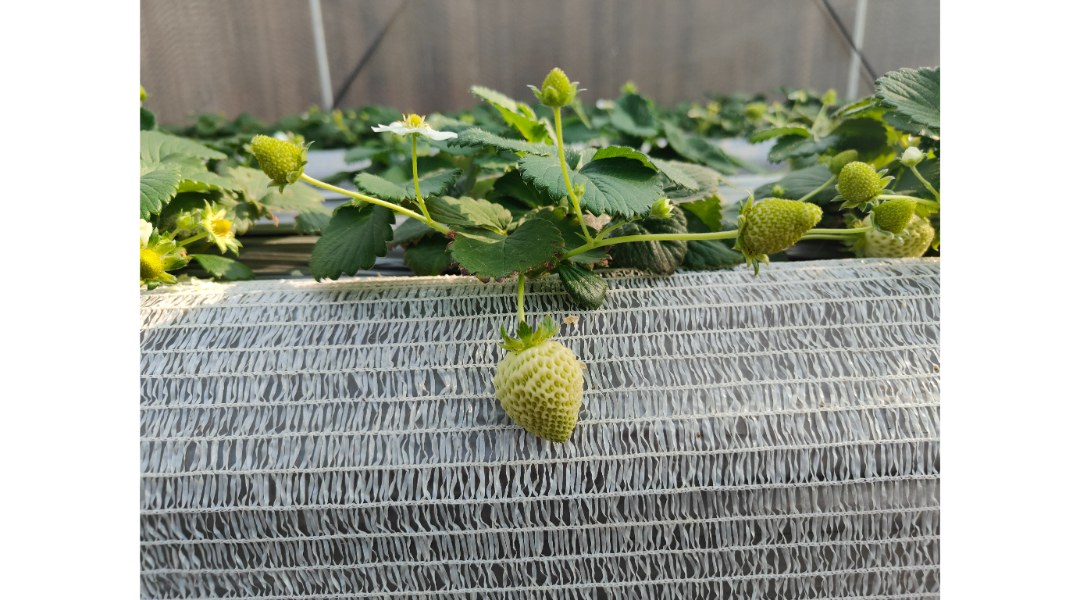berry: (488, 322, 591, 453), (729, 186, 826, 265), (852, 197, 943, 275), (247, 118, 314, 200), (824, 155, 892, 210), (526, 62, 591, 114), (870, 190, 920, 230)
flower: (367, 103, 474, 159), (196, 198, 251, 262)
strain: (298, 174, 412, 218), (552, 107, 587, 233), (620, 225, 741, 251), (502, 263, 536, 332)
